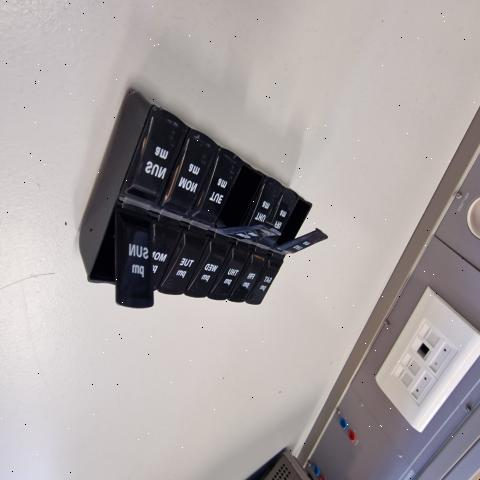Open: (216, 164, 266, 227), (90, 207, 117, 302), (276, 199, 316, 245)
